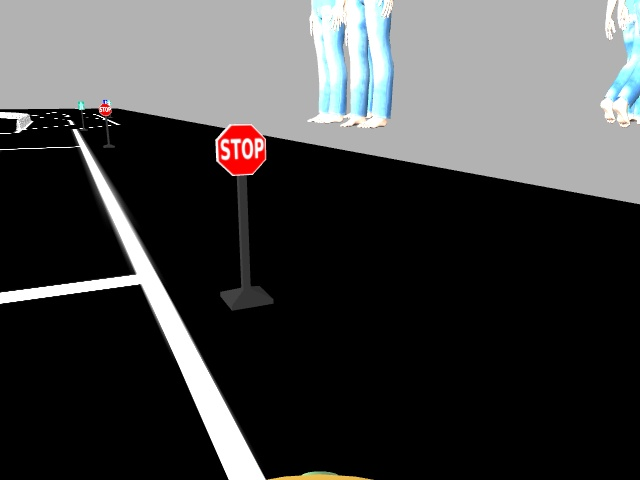Stop: (209, 121, 269, 177)
